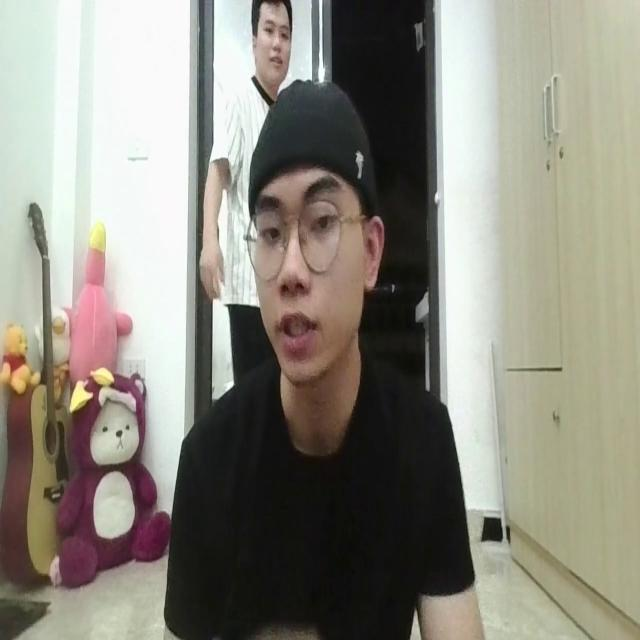extra_person: (204, 0, 290, 360)
student: (169, 75, 480, 640)
